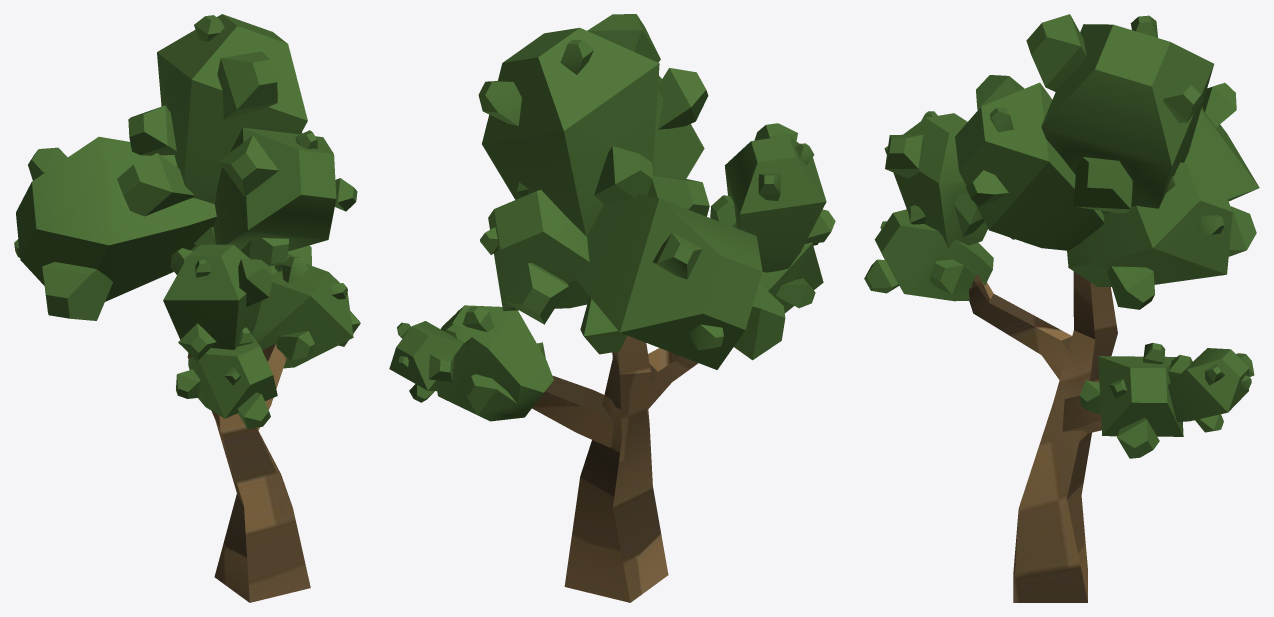
The model's file is arbol.obj.
3 views of the same model, side by side, from view 1: azimuth 30°, elevation 25°; view 2: azimuth 150°, elevation 25°; view 3: azimuth 270°, elevation 25° (orthographic). The views are drawn at different scales.
Visible parts, largest first — view 1: arbol:Mesh, arbol:MeshpolySurface1; view 2: arbol:Mesh, arbol:MeshpolySurface1; view 3: arbol:Mesh, arbol:MeshpolySurface1.
Boxes of the visible parts, box(x1,y1,x2,y2) form: arbol:Mesh: box(14, 14, 360, 429); arbol:MeshpolySurface1: box(187, 343, 310, 602); arbol:Mesh: box(389, 14, 835, 421); arbol:MeshpolySurface1: box(532, 335, 698, 602); arbol:Mesh: box(864, 14, 1259, 458); arbol:MeshpolySurface1: box(969, 271, 1117, 602).
Size of the model in its own units: 2.06 by 3.25 by 2.06.
2 materials, 2 textured.
